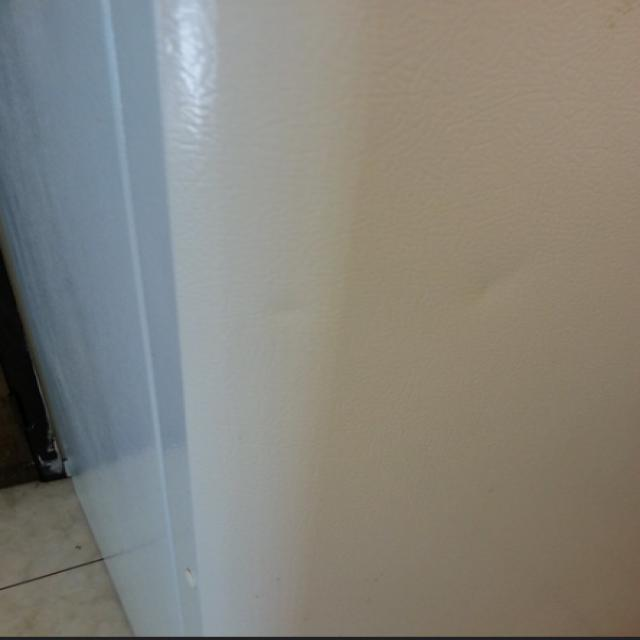dents: (456, 246, 588, 327), (249, 284, 366, 348)
